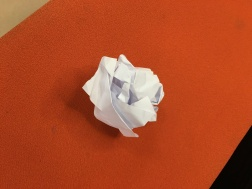paper_brown: (76, 46, 176, 144)
